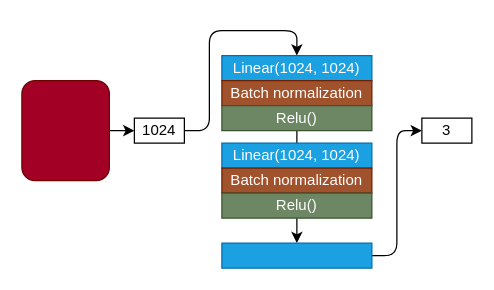
Some shapes in this 494 by 290 pixel diagram are drawn without their labels. Here are the shapes that lost their labels. From the top down, the centre of each, then its label:
point 65,130: ResNet20 Feature Extraction
point 296,255: Linear(1024, 3)
